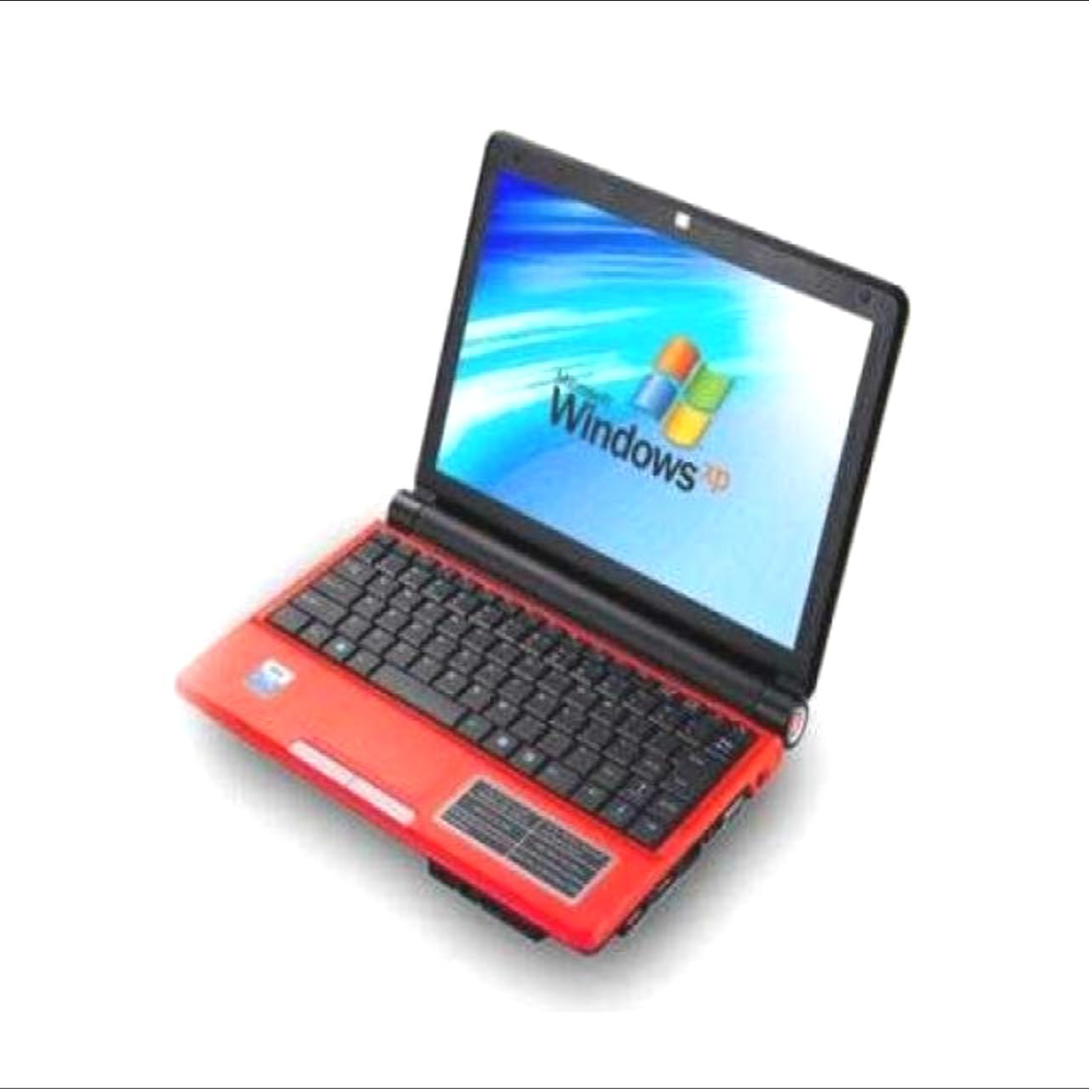laptop: (148, 80, 887, 982)
